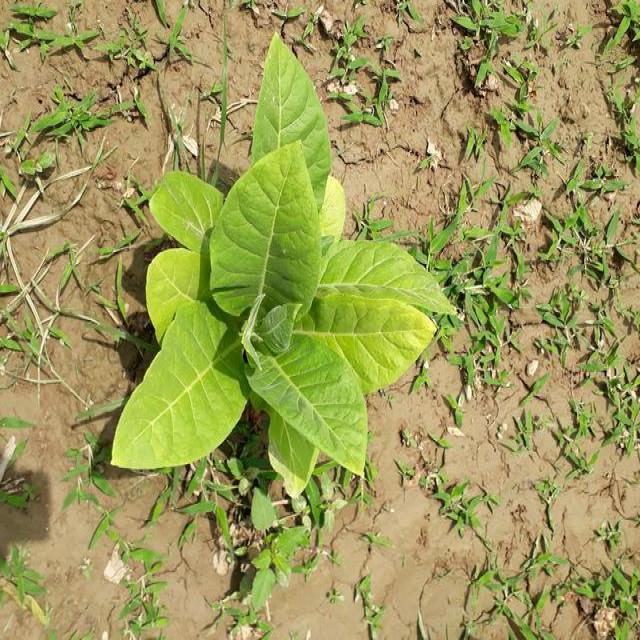crop: (106, 44, 448, 518)
